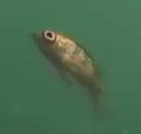smallfish: (22, 20, 119, 116)
